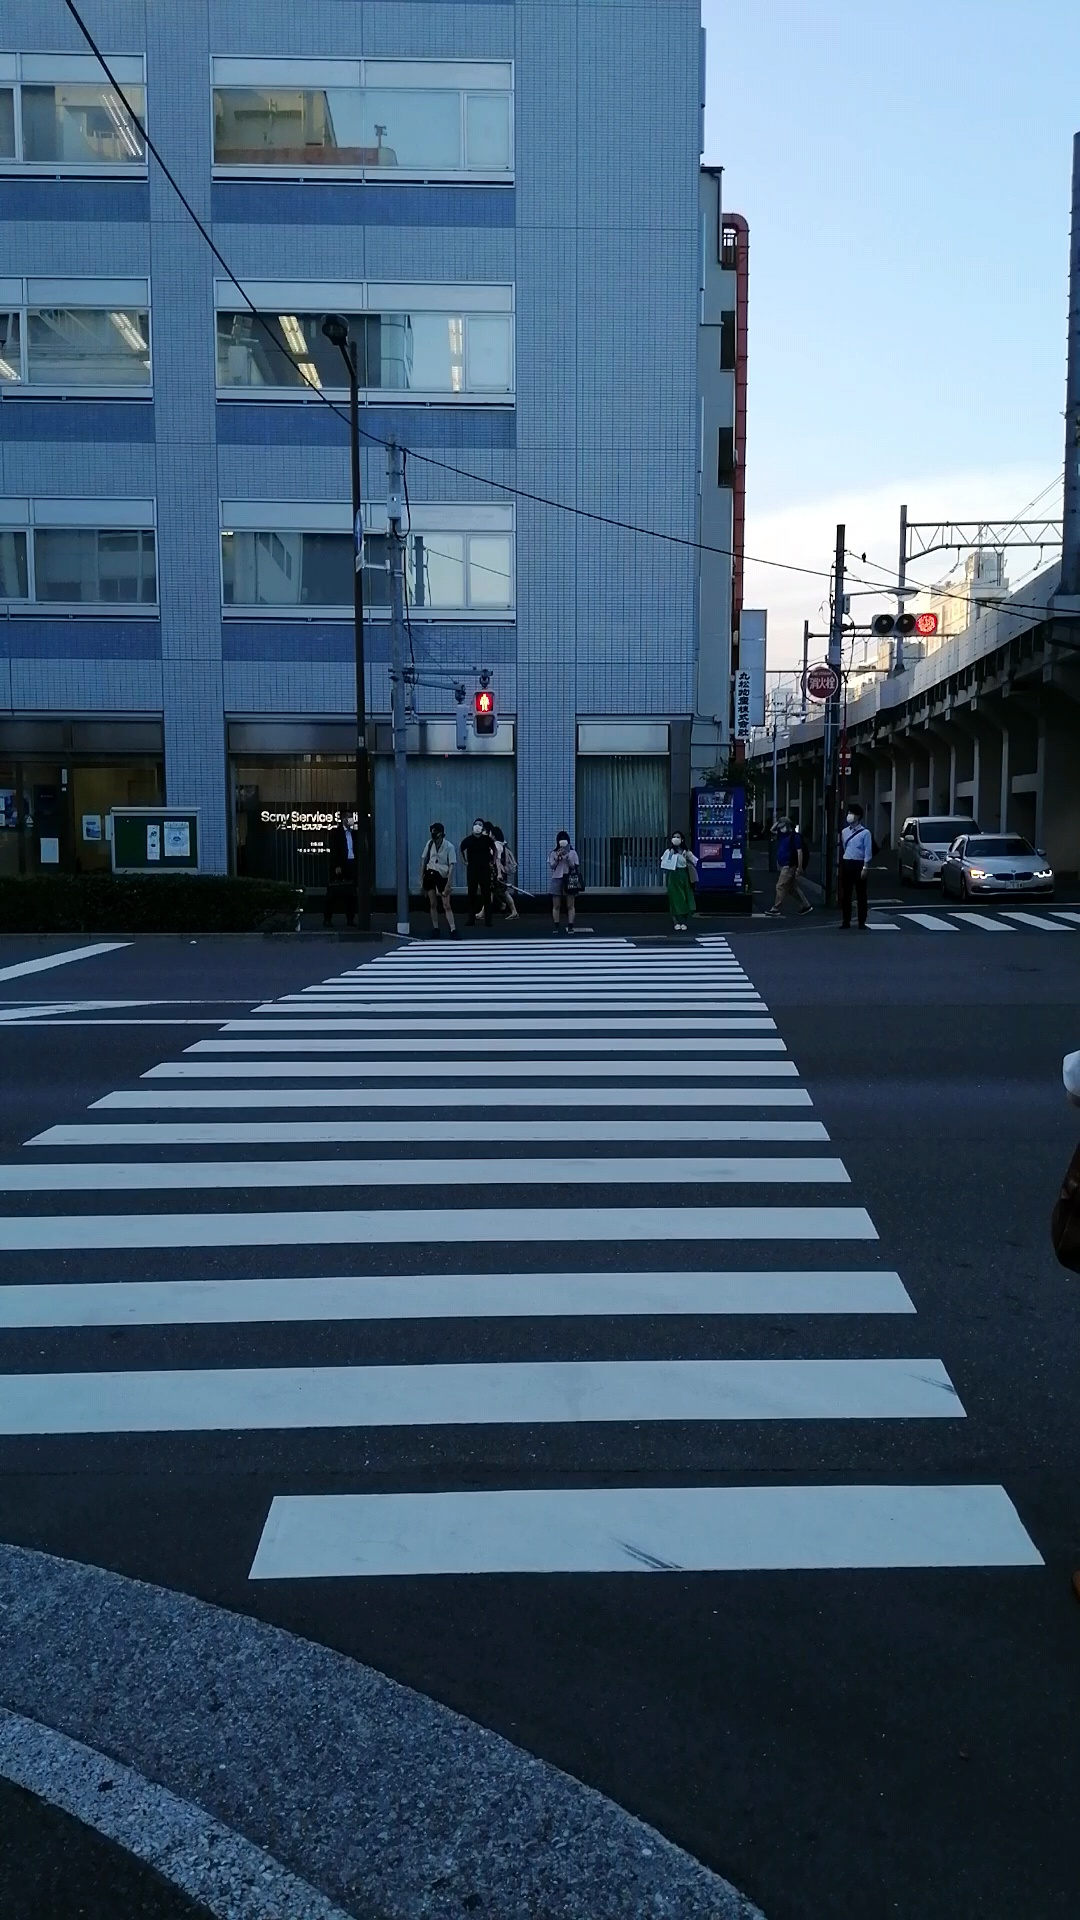red: (469, 690, 497, 738)
